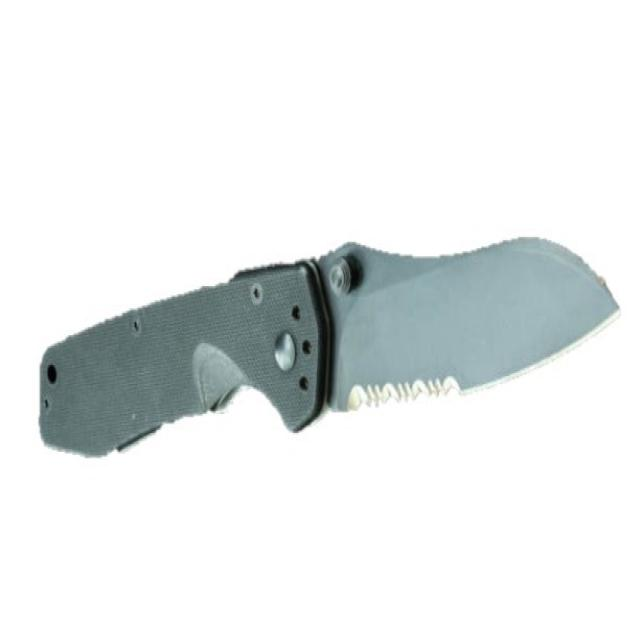knife: (26, 220, 631, 474)
